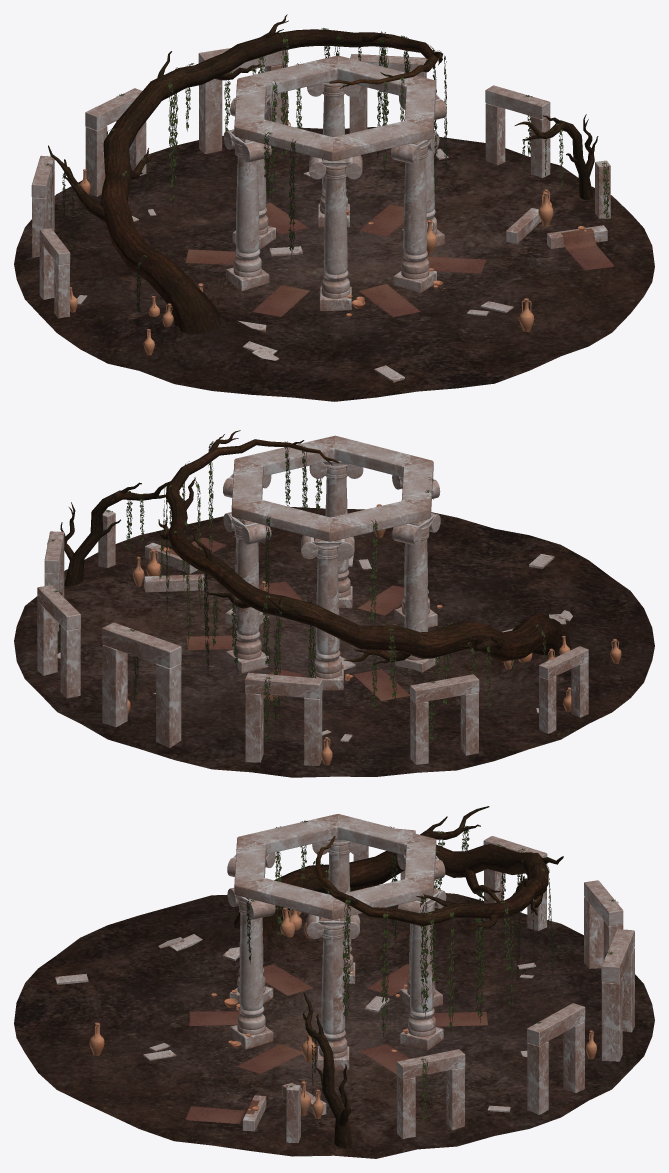
The model's file is hugo-world-mobile.glb.
3 views of the same model, one above another, from view 1: azimuth 30°, elevation 25°; view 2: azimuth 150°, elevation 25°; view 3: azimuth 270°, elevation 25° (orthographic).
Visible parts, largest first — view 1: floorplane, polySurface101, pTorus1, column5, column3, column4, arch13, arch11, arch12, arch9, column6, polySurface32 (+15 smaller); view 2: floorplane, polySurface101, pTorus1, arch12, arch11, arch5, column2, column6, column3, arch9, column4, polySurface32 (+14 smaller); view 3: floorplane, pTorus1, polySurface101, arch5, column4, column1, arch12, arch13, column6, arch11, polySurface32, column3 (+17 smaller).
Boxes of the visible parts, x1=… form: floorplane: x1=14, y1=127, x2=654, y2=401; polySurface101: x1=48, y1=14, x2=442, y2=333; pTorus1: x1=234, y1=55, x2=436, y2=161; column5: x1=309, y1=155, x2=362, y2=310; column3: x1=223, y1=129, x2=271, y2=291; column4: x1=391, y1=132, x2=439, y2=292; arch13: x1=485, y1=85, x2=550, y2=177; arch11: x1=85, y1=88, x2=146, y2=196; arch12: x1=198, y1=48, x2=287, y2=153; arch9: x1=39, y1=228, x2=70, y2=318; column6: x1=307, y1=80, x2=360, y2=227; polySurface32: x1=514, y1=114, x2=598, y2=199; floorplane: x1=14, y1=507, x2=654, y2=777; polySurface101: x1=158, y1=430, x2=571, y2=665; pTorus1: x1=231, y1=435, x2=433, y2=541; arch12: x1=102, y1=622, x2=181, y2=747; arch11: x1=245, y1=672, x2=322, y2=765; arch5: x1=37, y1=585, x2=80, y2=698; column2: x1=301, y1=535, x2=354, y2=690; column6: x1=223, y1=512, x2=271, y2=673; column3: x1=392, y1=512, x2=440, y2=672; arch9: x1=539, y1=646, x2=588, y2=733; column4: x1=309, y1=460, x2=363, y2=608; polySurface32: x1=60, y1=481, x2=170, y2=586; floorplane: x1=14, y1=885, x2=654, y2=1158; pTorus1: x1=234, y1=814, x2=436, y2=919; polySurface101: x1=234, y1=806, x2=563, y2=935; arch5: x1=527, y1=1003, x2=585, y2=1114; column4: x1=227, y1=887, x2=275, y2=1049; column1: x1=306, y1=914, x2=360, y2=1069; arch12: x1=601, y1=929, x2=634, y2=1061; arch13: x1=396, y1=1049, x2=465, y2=1139; column6: x1=398, y1=888, x2=446, y2=1050; arch11: x1=584, y1=880, x2=623, y2=968; polySurface32: x1=302, y1=992, x2=352, y2=1148; column3: x1=312, y1=838, x2=365, y2=983.
Size of the model in its own units: 1373 by 460 by 1373.
Materials: 7 (6 with a texture image).
